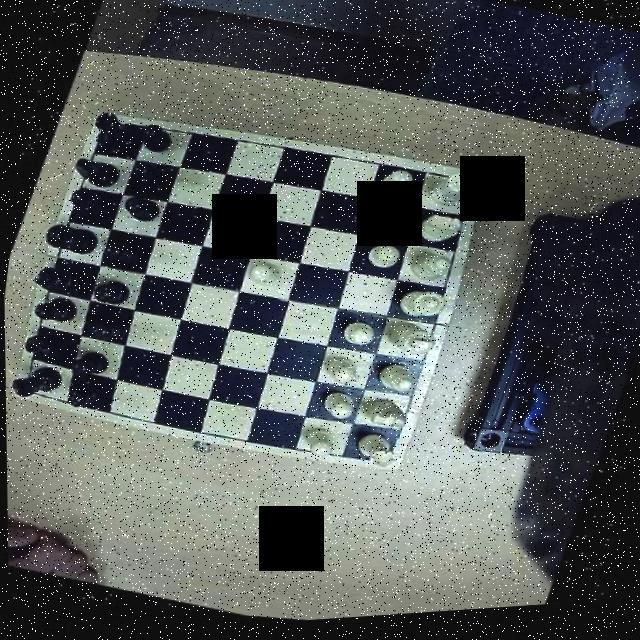chess-table-corners: (442, 171, 486, 214), (369, 438, 406, 478), (90, 112, 128, 150), (8, 369, 42, 402)
